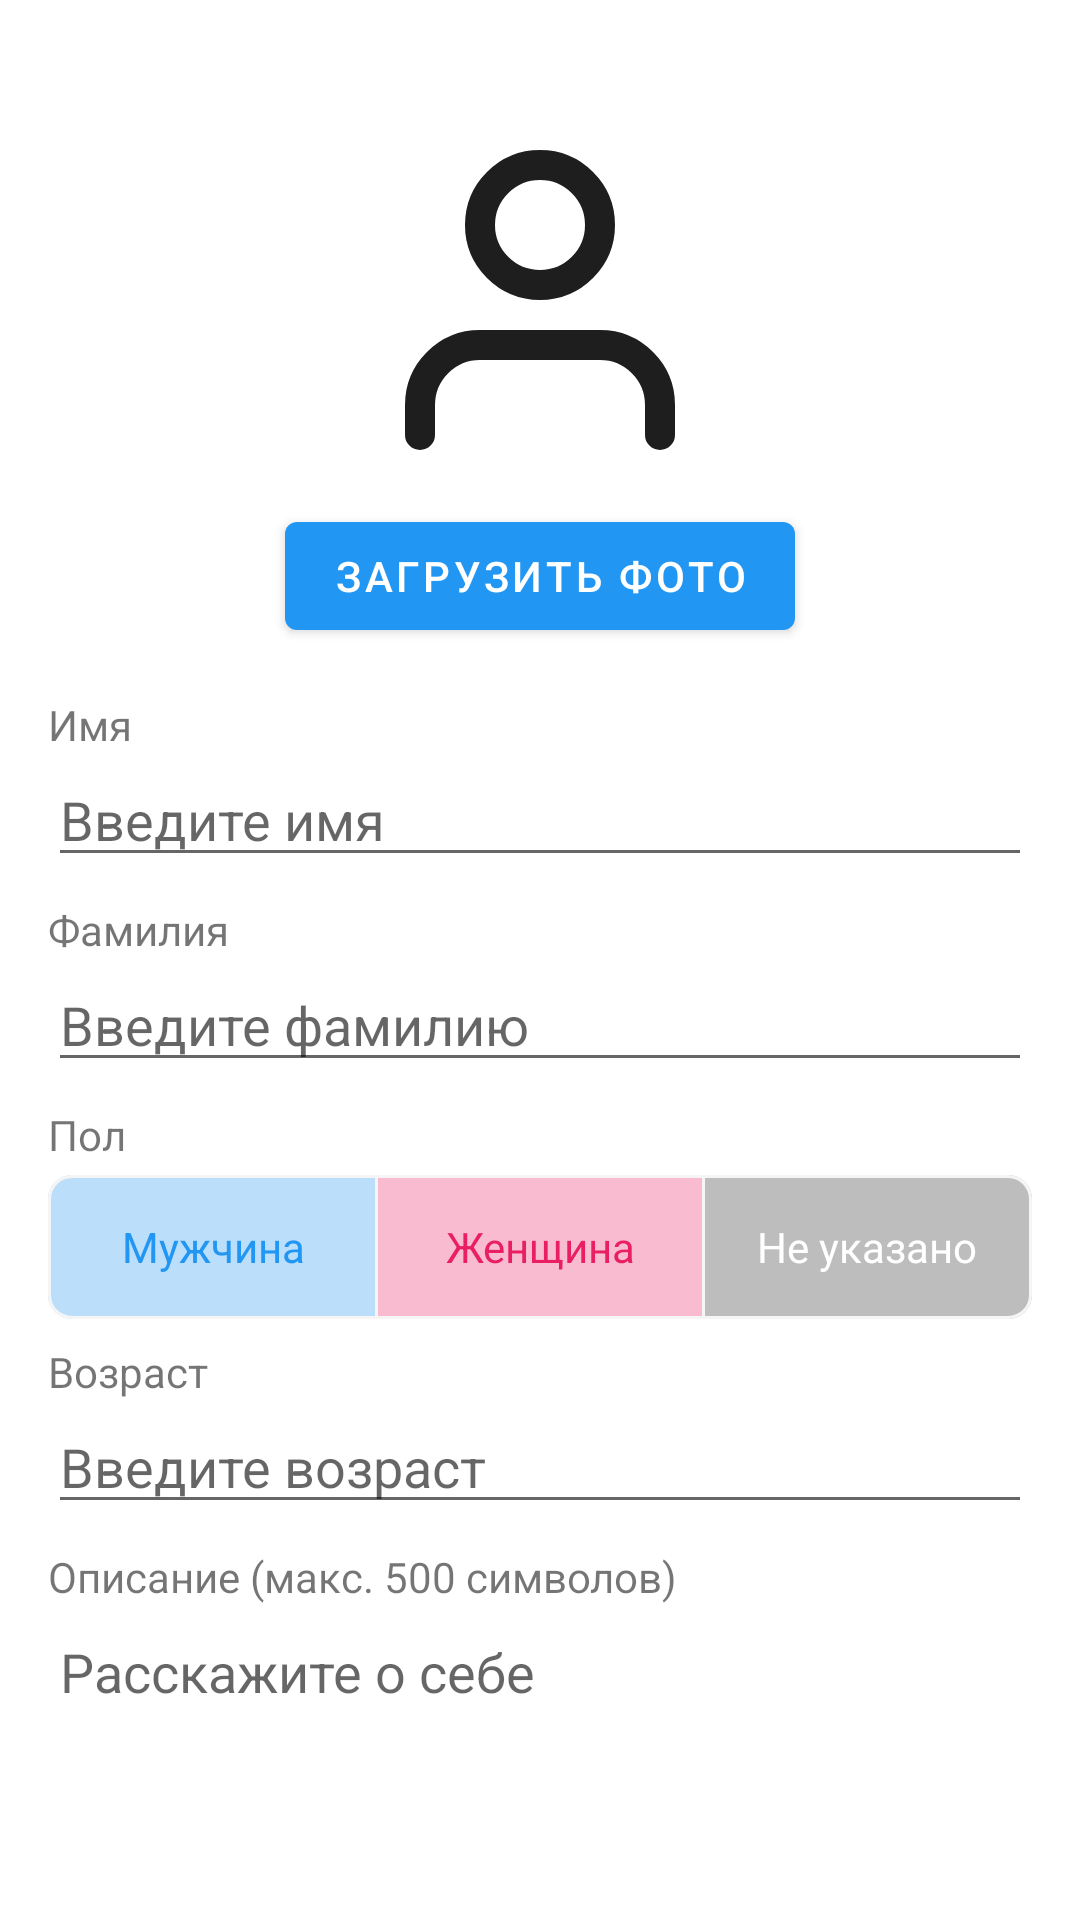

Point at icon controls on the screen. Image size 1080*1920, points as point (x, y).
user: point (540, 300)
